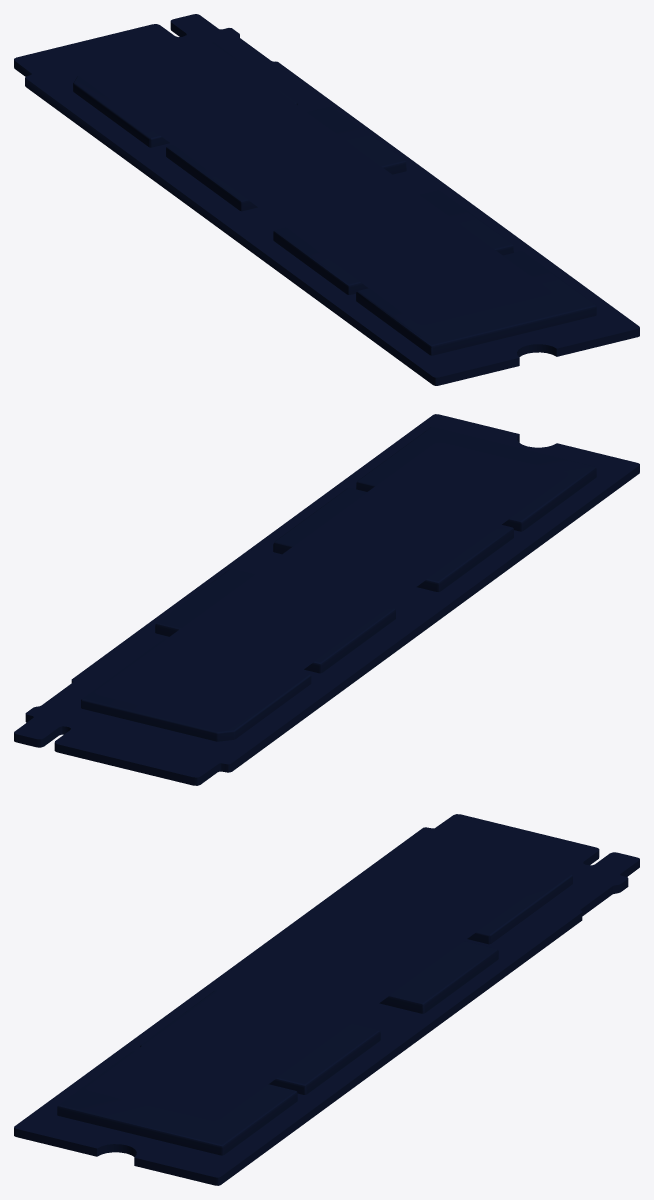
The model's file is ssd-kingston-nv3-1tb_lod1.glb.
3 renders of one model, top to bottom at view 1: azimuth 30°, elevation 25°; view 2: azimuth 150°, elevation 25°; view 3: azimuth 330°, elevation 25°, orthographic.
Visible parts, largest first — view 1: body; view 2: body; view 3: body.
Part boxes in pixels (x1,y1,x2,y2): body: (14, 14, 639, 385); body: (14, 414, 639, 785); body: (14, 814, 639, 1185).
Bounding box in the file's own units: 0.022 × 0.00229 × 0.08.
